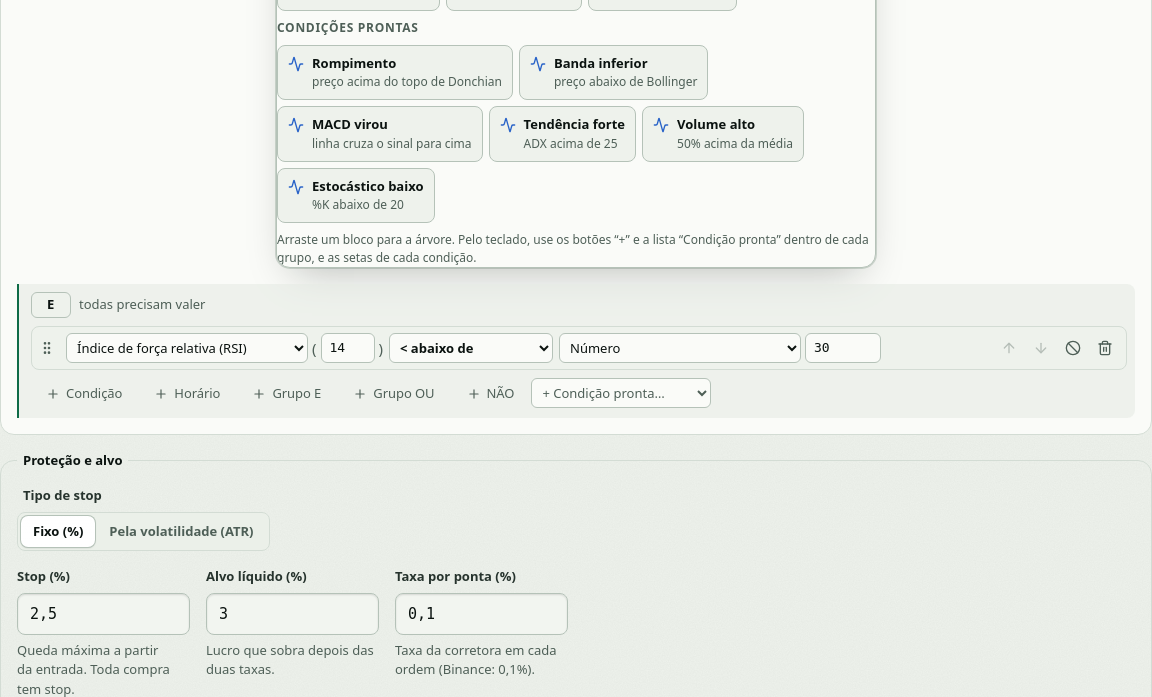
it: Construtor de estratégias › VWAP aparece no grupo do pregão, sem parênteses vazios
This screenshot has width=1152, height=697.
(page scrolled)
Select "VWAP do dia" in the dropdown named "Lado esquerdo: tipo": {"x": 187, "y": 348} [66,333,308,363]
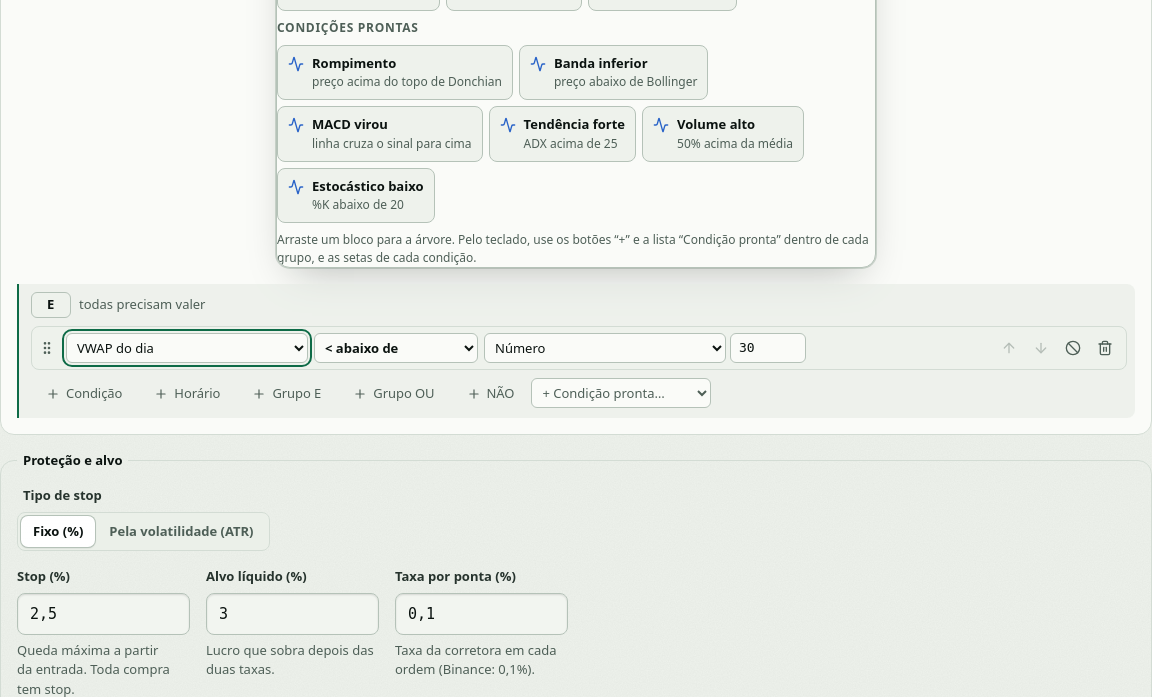
Select "Faixa de abertura" in the dropdown named "Lado esquerdo: tipo": {"x": 187, "y": 348} [66,333,308,363]
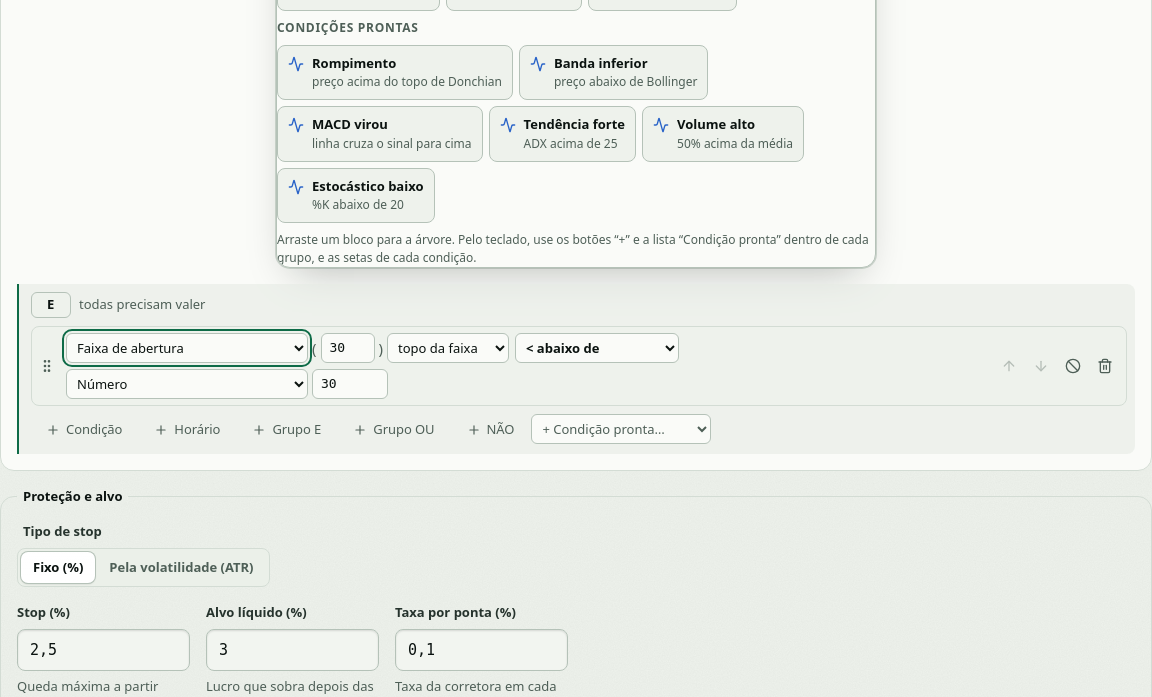
expect the field named "Lado esquerdo: minutos de faixa de abertura" holds "30": met, box [320,333,374,363]
